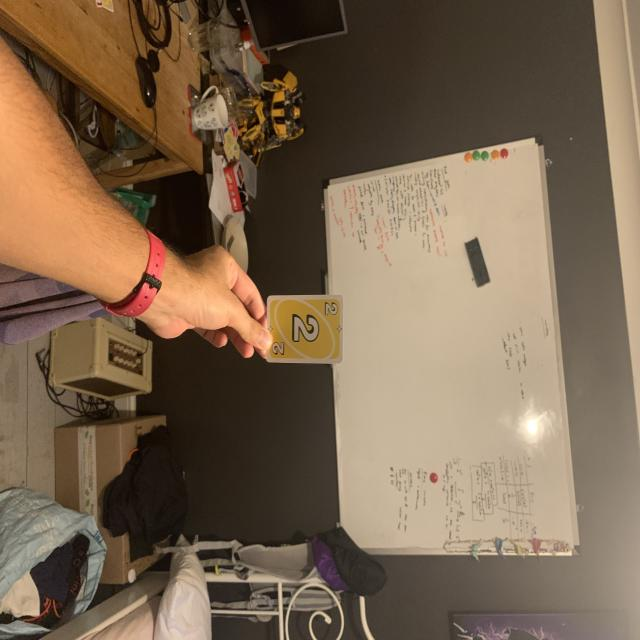lyellow-2: (318, 300, 343, 322)
